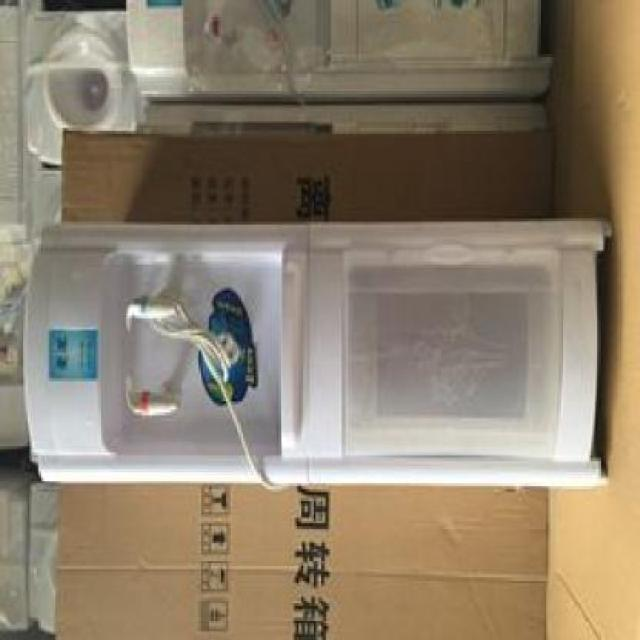cooler: (21, 211, 618, 487)
